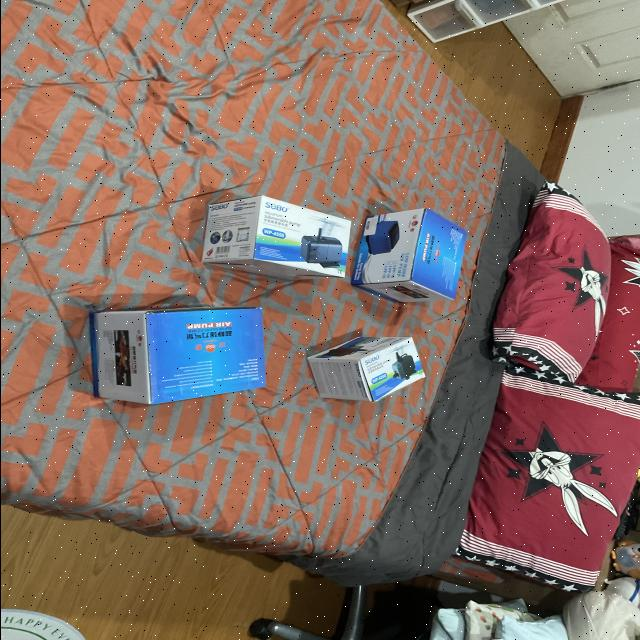SOBO_WP_4200: (196, 192, 354, 290), (303, 332, 427, 410)
YAMANO_LPP_20: (86, 300, 272, 416), (349, 204, 476, 310)
